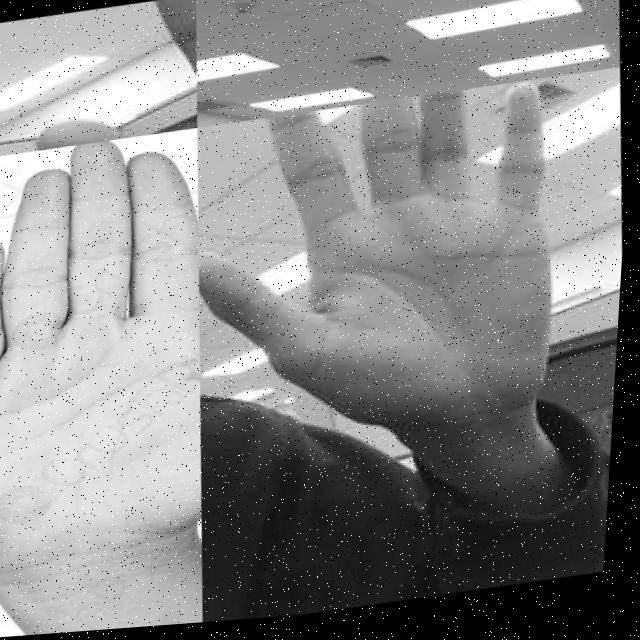hand: (182, 83, 577, 456), (0, 127, 227, 581), (25, 0, 204, 151)
